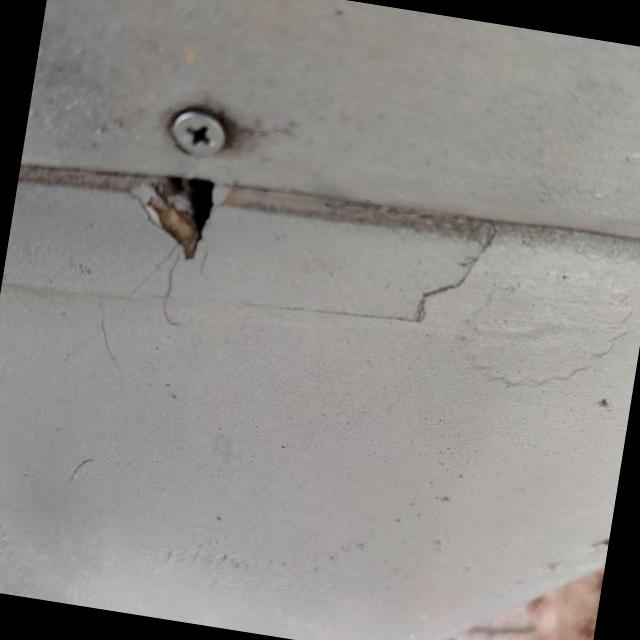crack: (86, 138, 259, 306)
